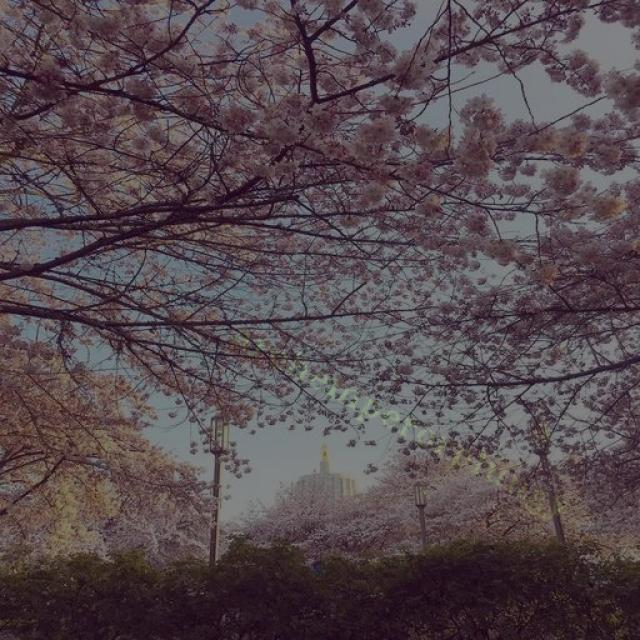watermark: (220, 316, 586, 525)
